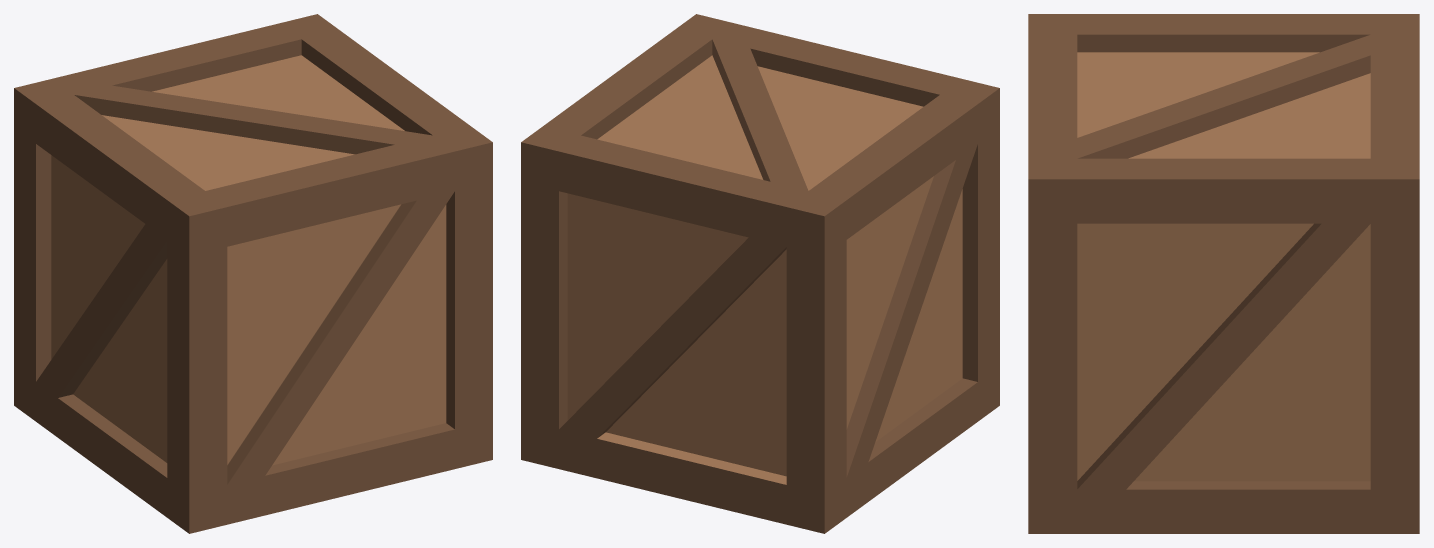
Rendered from FlyingBox.fbx.
The picture shows the model from 3 angles, left to right: view 1: azimuth 30°, elevation 25°; view 2: azimuth 150°, elevation 25°; view 3: azimuth 270°, elevation 25°; orthographic projection. The views are drawn at different scales.
Parts seen in each view (by area): view 1: FlyingBox; view 2: FlyingBox; view 3: FlyingBox.
Boxes of the visible parts, <box> form: FlyingBox: <box>14,14,492,533</box>; FlyingBox: <box>521,14,999,533</box>; FlyingBox: <box>1028,14,1419,533</box>.
Bounding box in the file's own units: 300 × 300 × 300.
